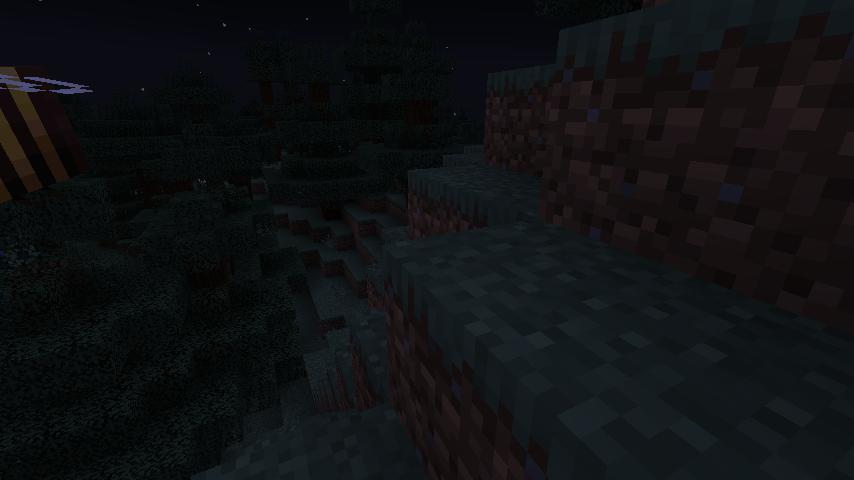bee: (0, 63, 100, 208)
